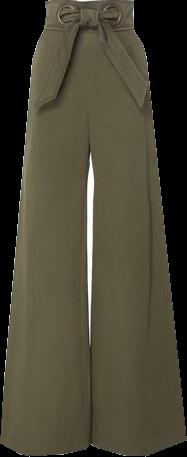Hemline: (89, 436, 186, 456), (0, 438, 91, 456)
Pantleg: (89, 0, 186, 455), (0, 0, 89, 455)
Waistline: (43, 26, 134, 35), (42, 0, 134, 4)
